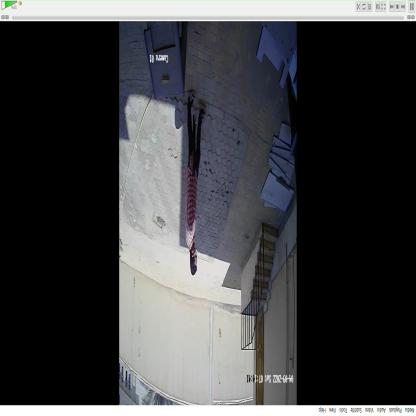handgun: (186, 111, 202, 183)
